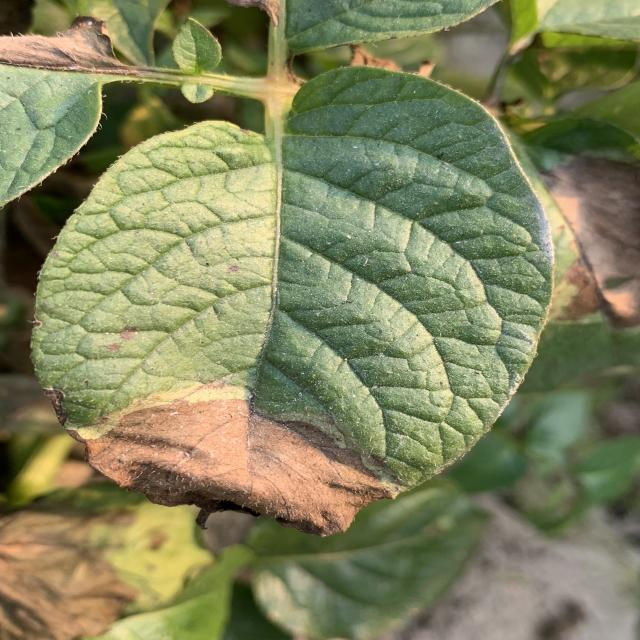lateblight: (82, 396, 402, 535)
